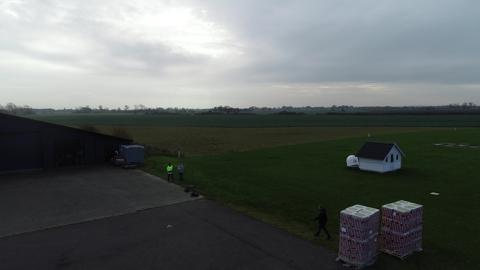RockwoolPallet: (380, 199, 422, 260)
